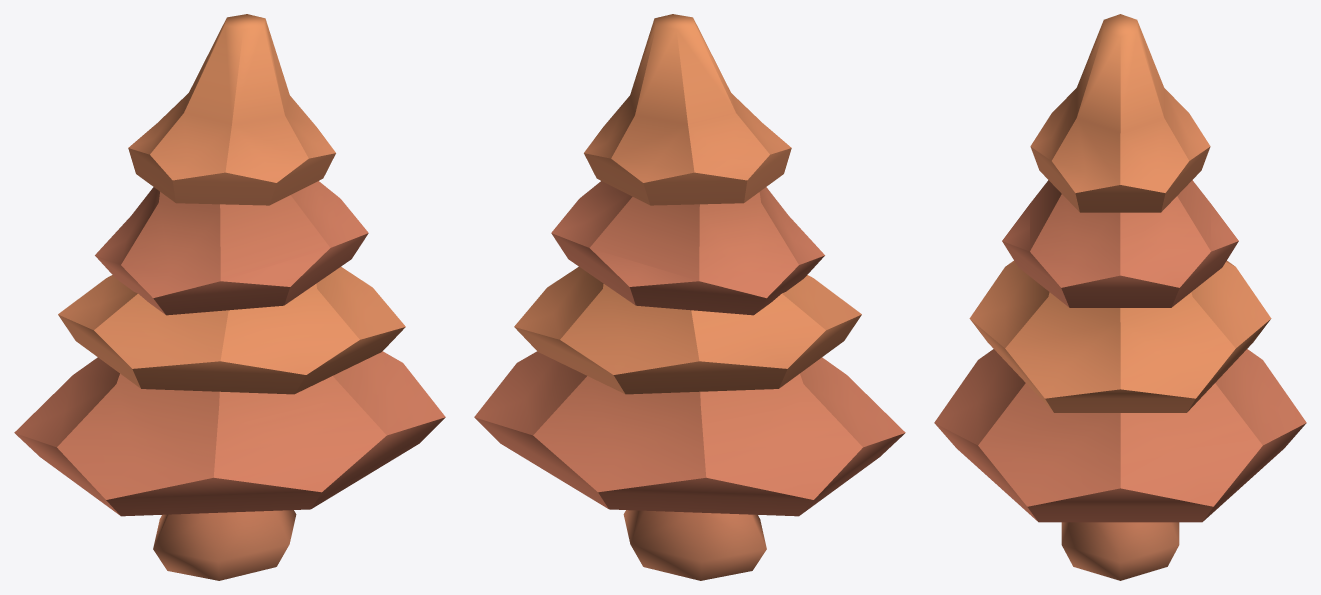
File: pine-fall-crooked_lev1.glb
3 views of the same model, side by side, from view 1: azimuth 30°, elevation 25°; view 2: azimuth 150°, elevation 25°; view 3: azimuth 270°, elevation 25° (orthographic).
Visible parts, largest first — view 1: pine-fall-crooked_lev1; view 2: pine-fall-crooked_lev1; view 3: pine-fall-crooked_lev1.
Boxes of the visible parts, x1=… form: pine-fall-crooked_lev1: x1=14, y1=14, x2=445, y2=580; pine-fall-crooked_lev1: x1=474, y1=14, x2=905, y2=580; pine-fall-crooked_lev1: x1=934, y1=14, x2=1306, y2=580.
Size of the model in its own units: 2.94 by 4.32 by 2.71.
Materials: 1 (1 with a texture image).
